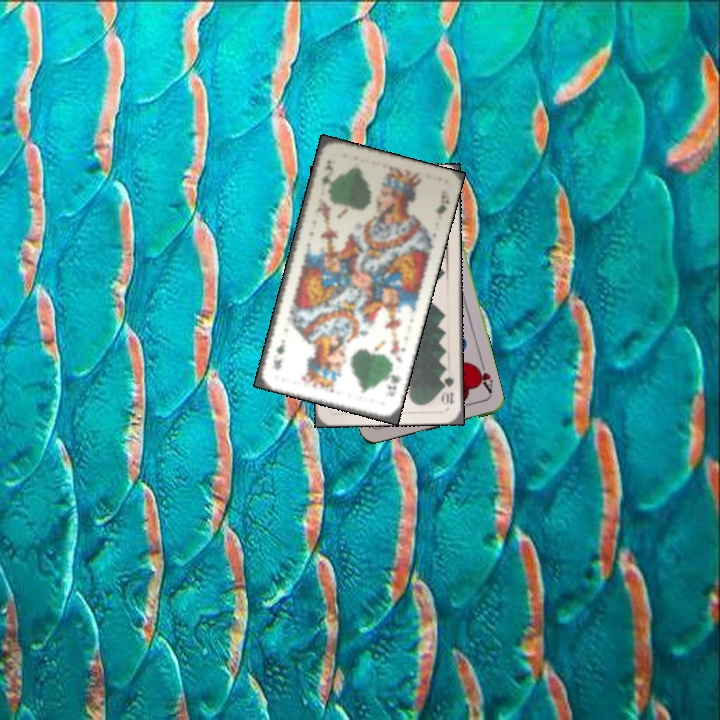G10: (439, 372, 457, 407)
GK: (382, 364, 403, 399), (318, 156, 337, 194)
HA: (471, 358, 495, 398)
